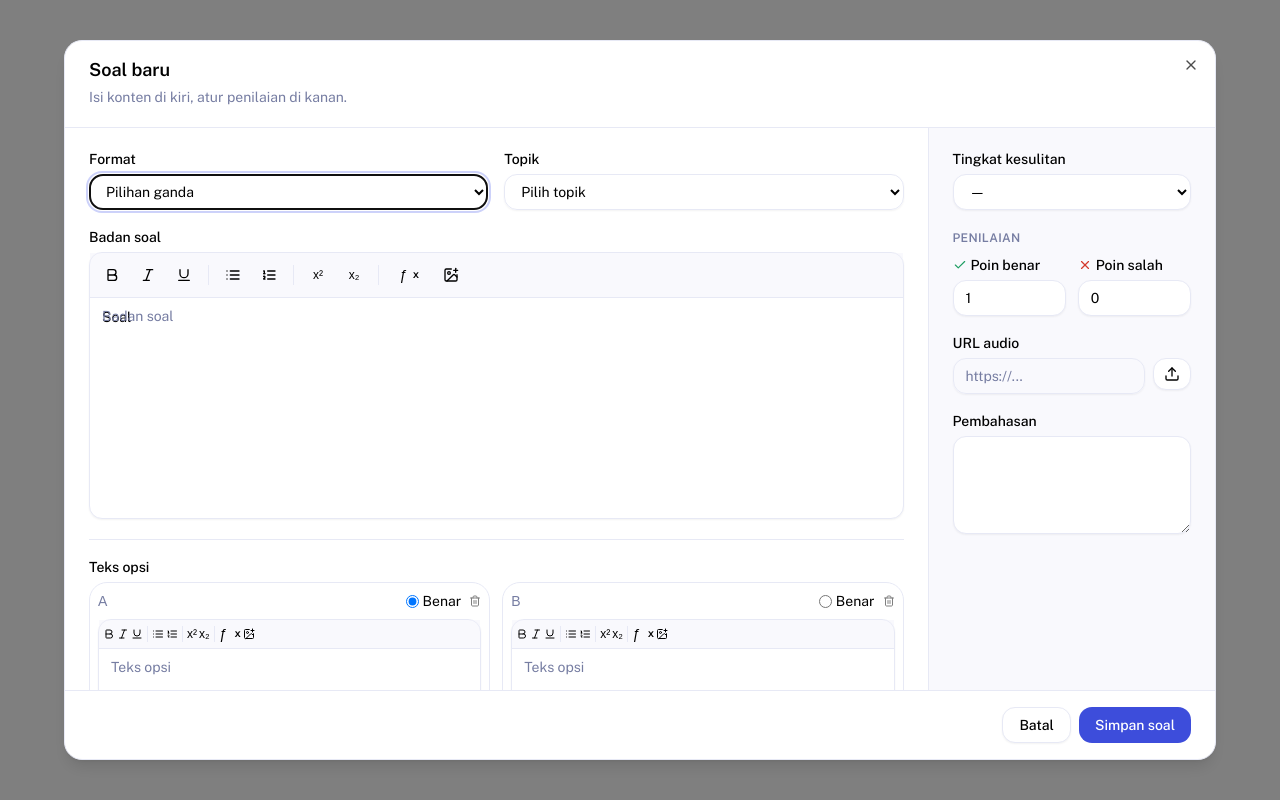
QuestionEditor › topic is required and blocks submit when empty
Clear the field named "badan soal": (117, 317) [102, 309, 131, 325]
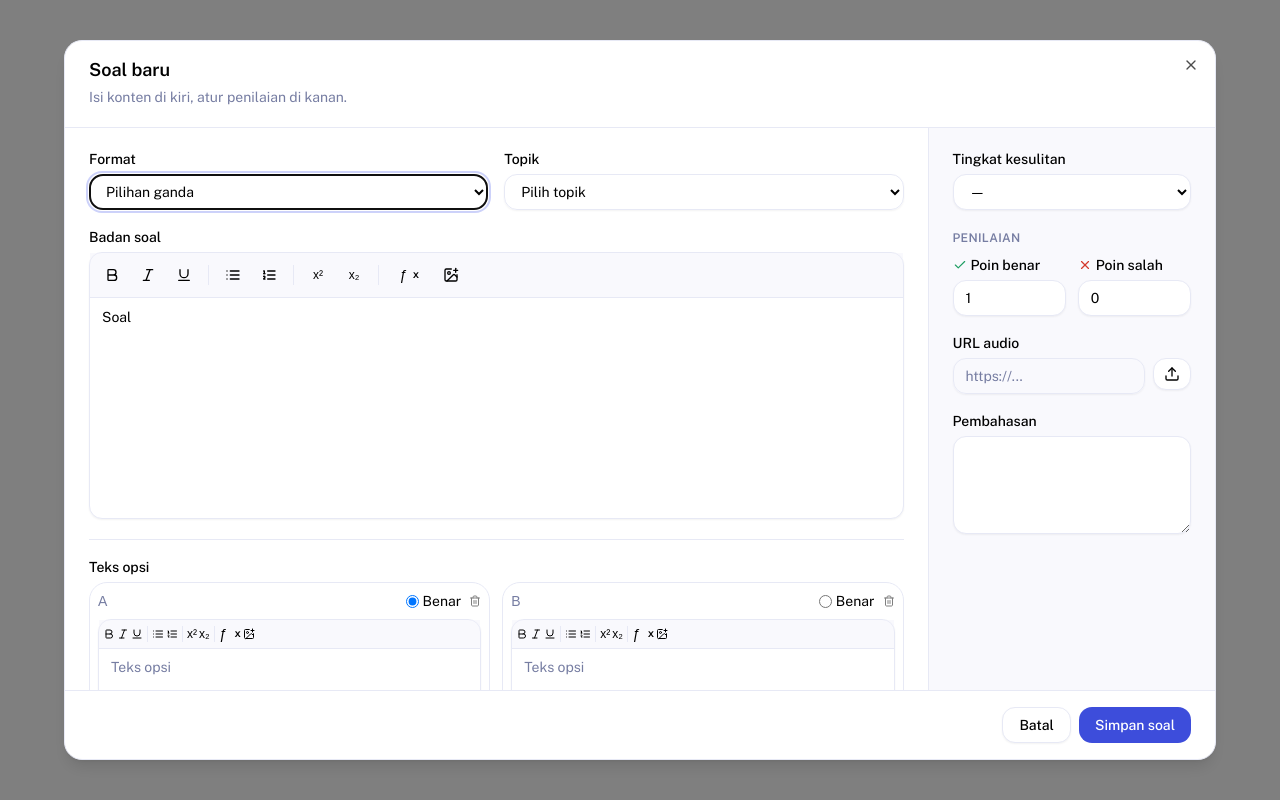
Click the button "Simpan soal": click(1135, 725) [1079, 707, 1191, 743]
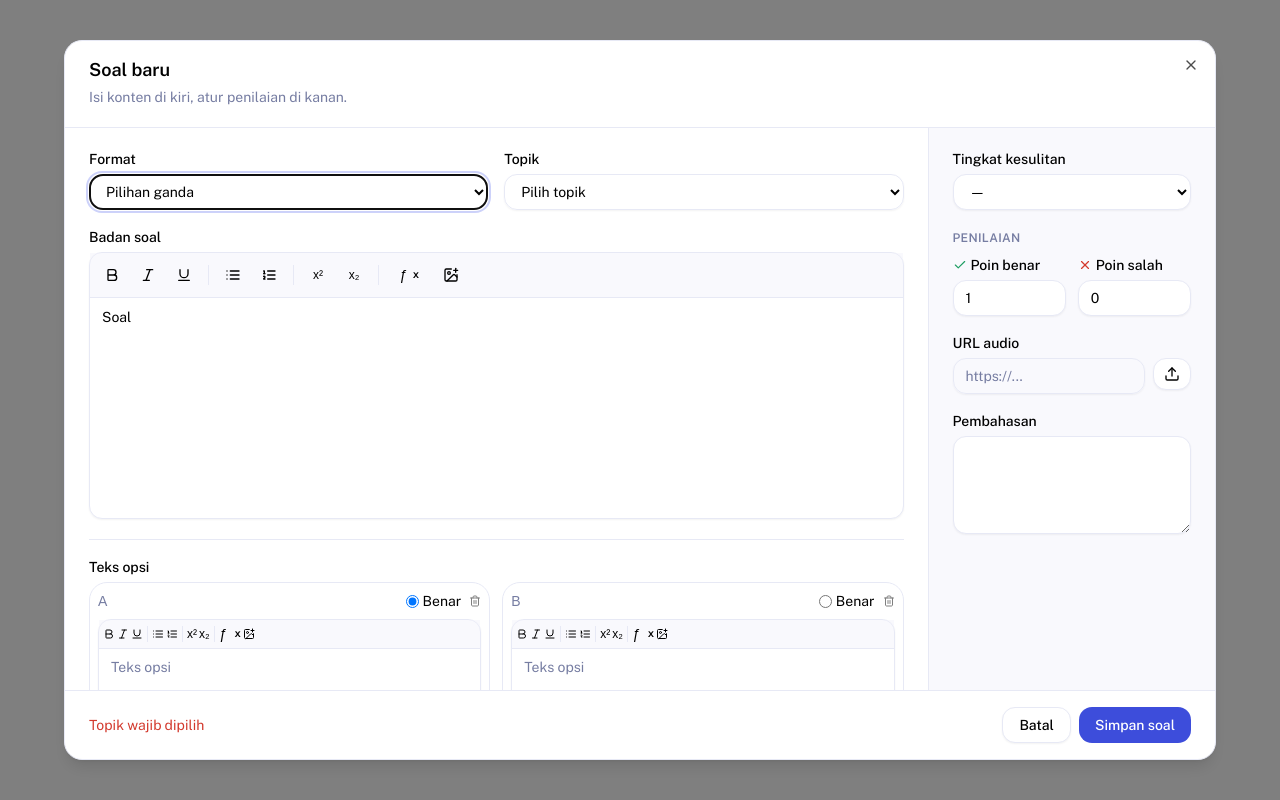
Expected: the text "Topik wajib dipilih" is shown, [89, 715, 204, 735]
